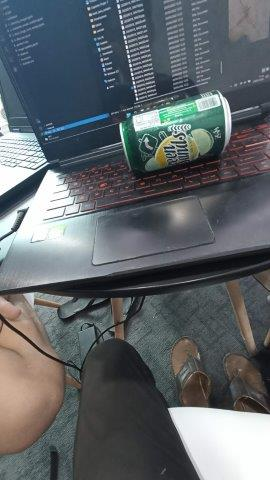kaleng: (119, 89, 231, 171)
